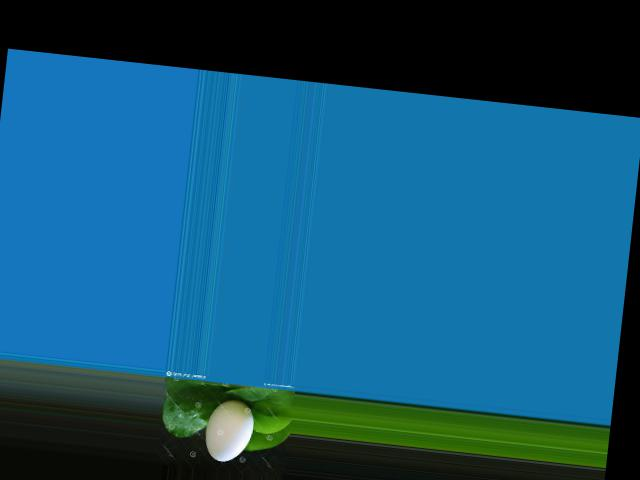egg: (203, 397, 256, 464)
